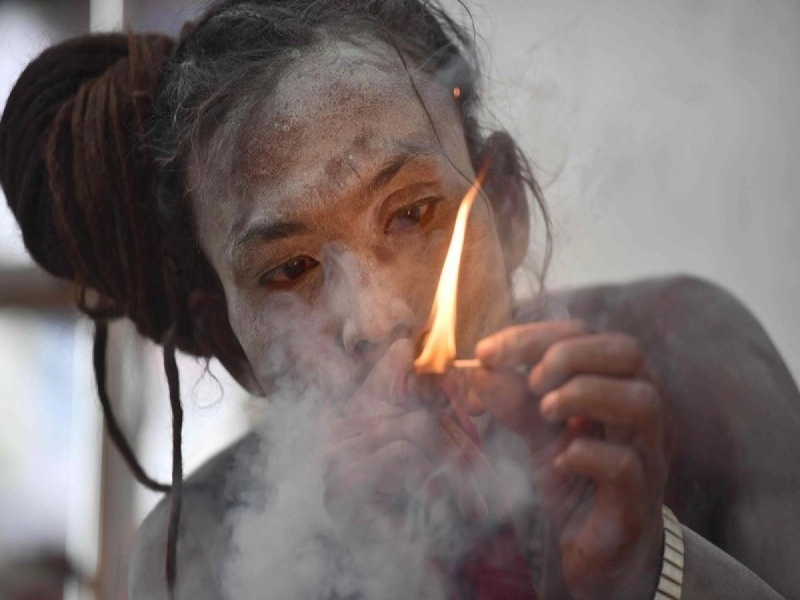smoke: (238, 340, 457, 592)
